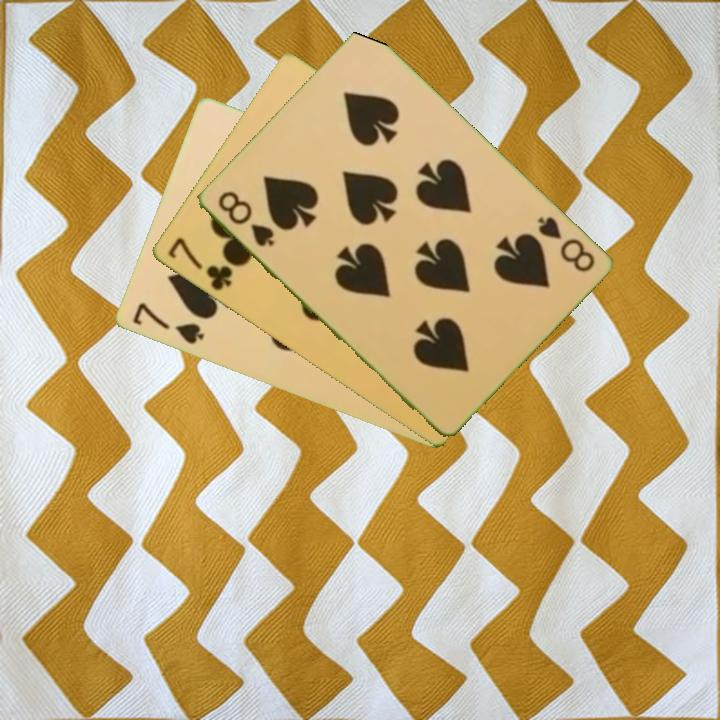7c: (163, 234, 235, 294)
7s: (128, 299, 207, 348)
8s: (213, 187, 277, 250), (533, 212, 597, 275)
